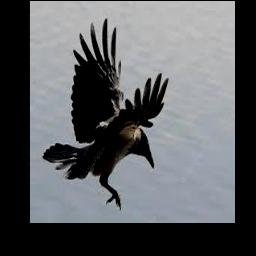Crow: (42, 17, 168, 211)
